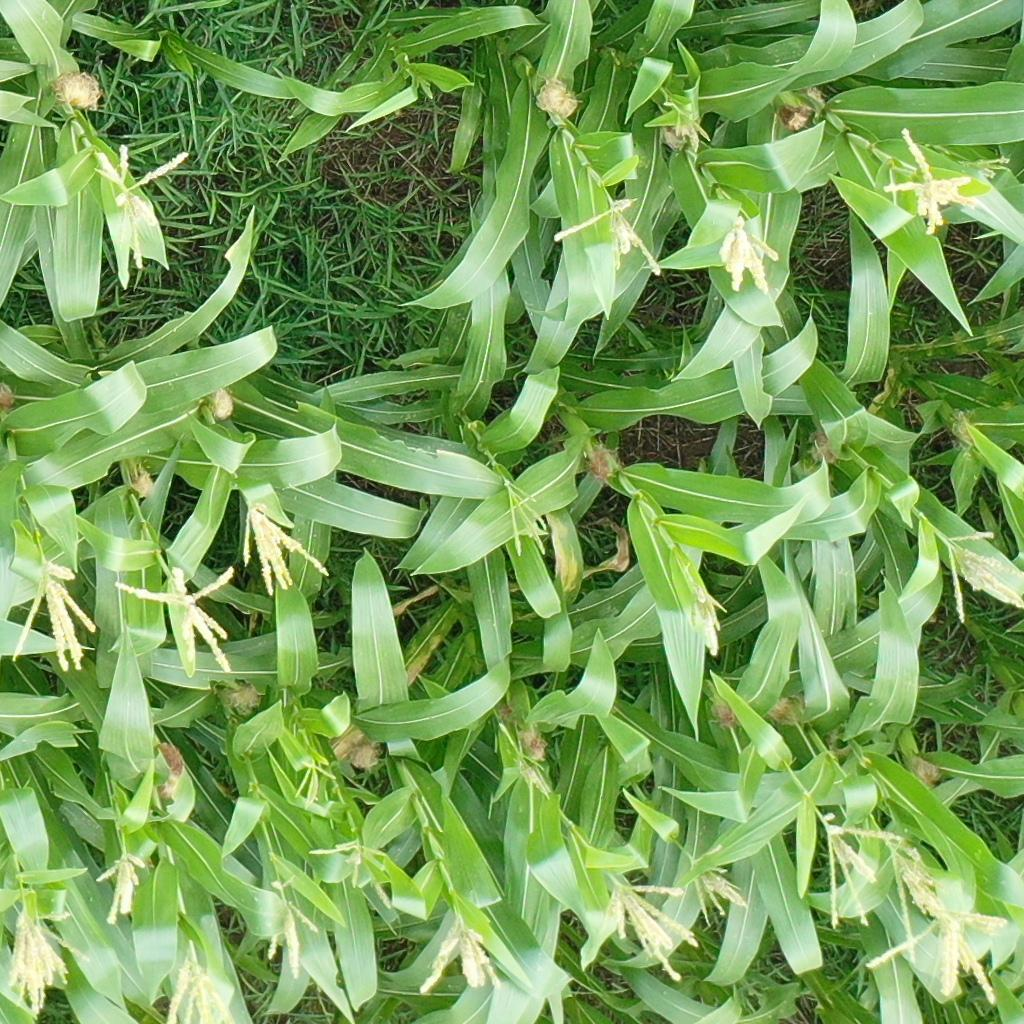Tassel: (113, 564, 238, 677), (869, 908, 1010, 1007), (91, 143, 189, 270), (596, 882, 698, 985), (881, 126, 974, 235), (816, 809, 902, 926), (10, 559, 99, 672), (9, 901, 90, 1015), (552, 196, 665, 277), (241, 499, 331, 598), (886, 839, 956, 962), (938, 524, 1024, 623), (421, 921, 504, 1000), (307, 838, 394, 909), (265, 874, 319, 980), (166, 942, 235, 1024), (719, 215, 782, 297), (689, 844, 750, 927), (679, 560, 726, 657), (499, 475, 552, 558), (92, 852, 146, 924), (664, 97, 710, 150), (293, 757, 338, 801), (515, 756, 550, 801), (963, 150, 1012, 180), (418, 76, 435, 98)
